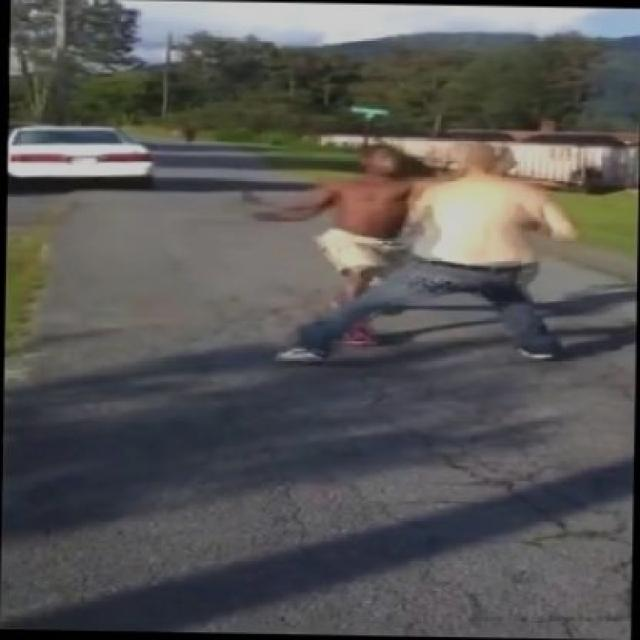fight: (238, 125, 588, 378)
